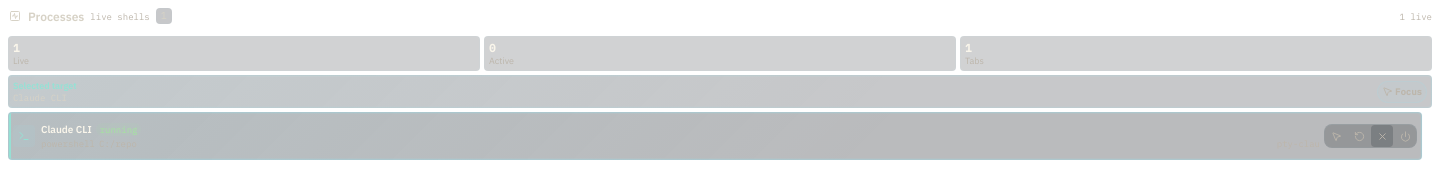
Test: ProcessManagerPanel › keeps focus locked while a focus request is in flight
The image size is (1440, 177).
Click the button named "Focus Main/Claude CLI": x=1336, y=136 [1325,125,1347,147]
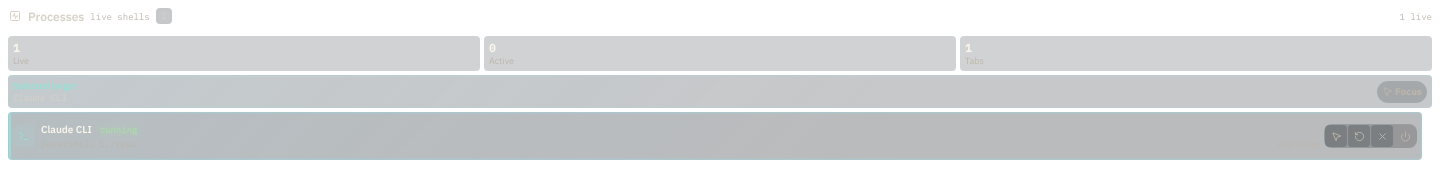
Expected: the button named "Focus Main/Claude CLI" is disabled, [1325,125,1347,147]
Expected: the button with aria-label "Focus selected process Claude CLI" is disabled
Click the button with aria-label "Focus selected process Claude CLI": x=1402, y=92 [1377,80,1427,102]
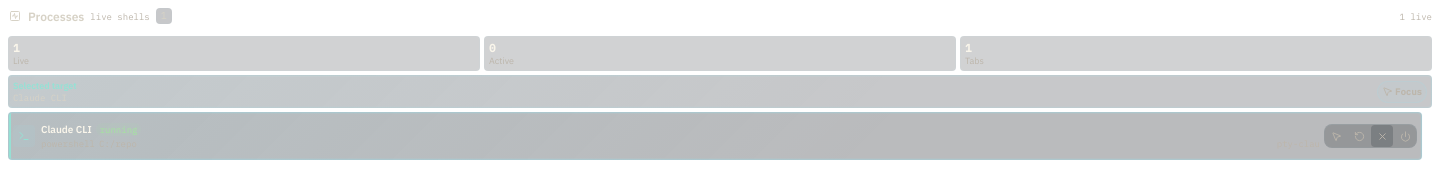
Expected: the button named "Focus Main/Claude CLI" is enabled, [1325,125,1347,147]
Expected: the button with aria-label "Focus selected process Claude CLI" is enabled, [1377,80,1427,102]
